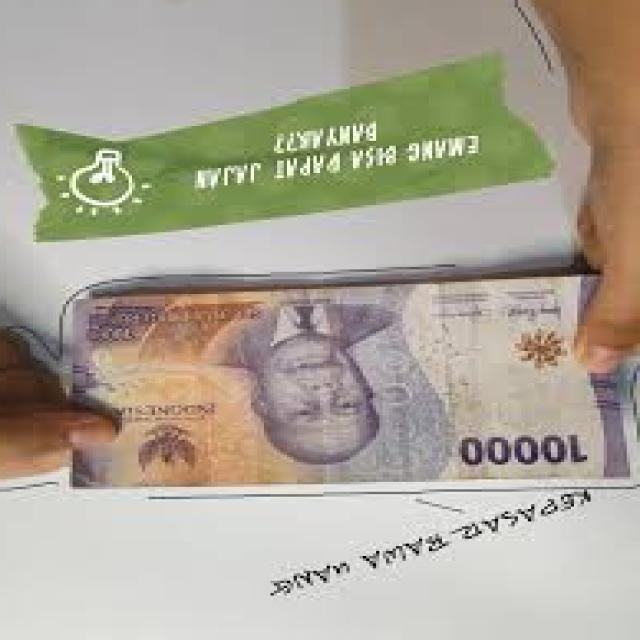sepuluh ribu rupiah: (71, 272, 633, 489)
